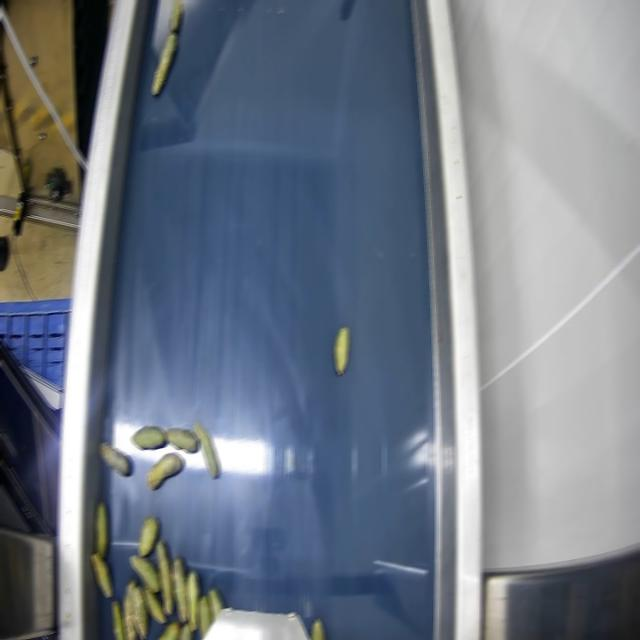Baby Potato: (148, 34, 180, 93), (193, 421, 220, 479), (146, 451, 183, 489), (155, 540, 173, 612), (129, 554, 161, 592), (171, 556, 189, 622), (99, 441, 131, 475), (90, 551, 112, 598), (333, 322, 351, 378), (137, 513, 159, 556), (130, 425, 166, 449), (164, 427, 198, 452), (122, 580, 136, 640), (186, 569, 199, 629), (94, 501, 108, 556), (197, 595, 213, 639), (131, 592, 147, 634), (167, 0, 185, 34), (143, 592, 164, 620), (110, 601, 124, 640), (209, 587, 224, 617), (156, 620, 178, 640), (311, 617, 323, 640), (178, 620, 191, 640)
